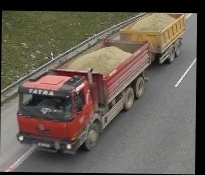truck: (15, 11, 187, 157)
